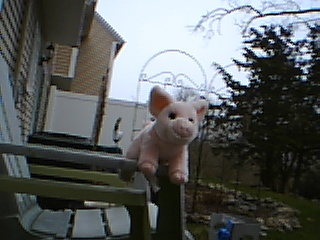piggy: (125, 84, 210, 186)
